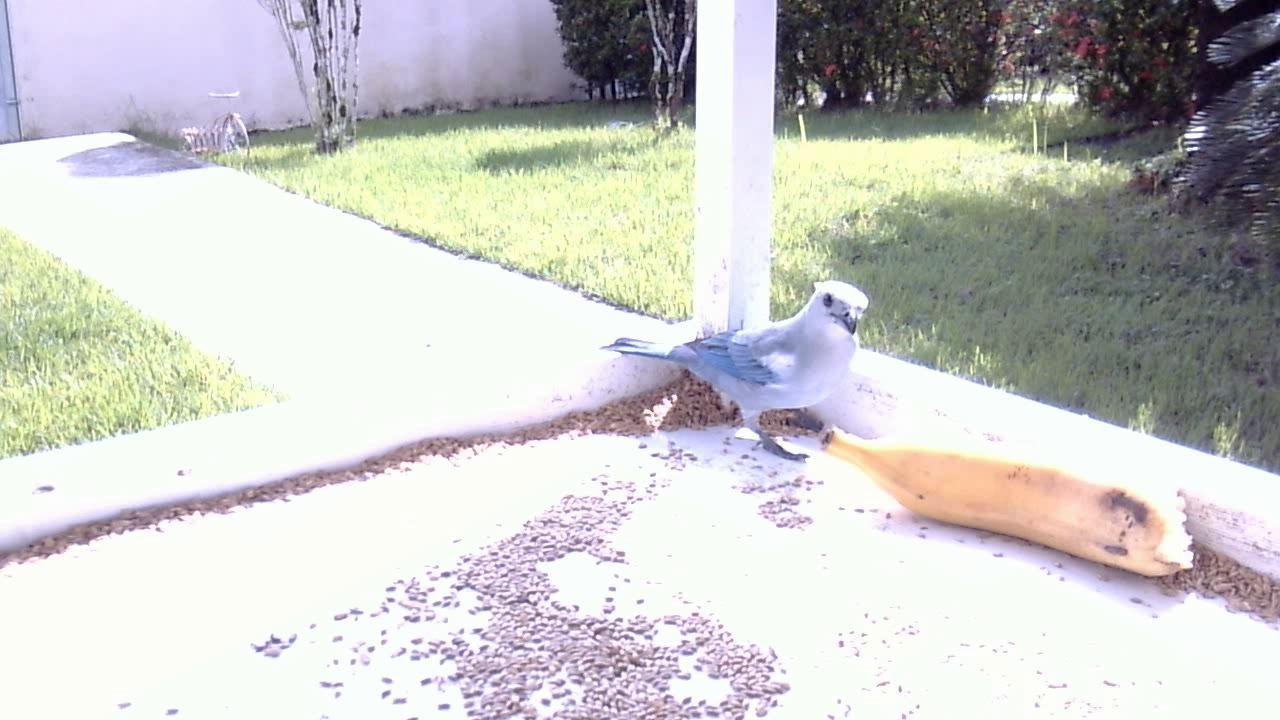sanhaco_da_amazonia: (595, 269, 873, 471)
